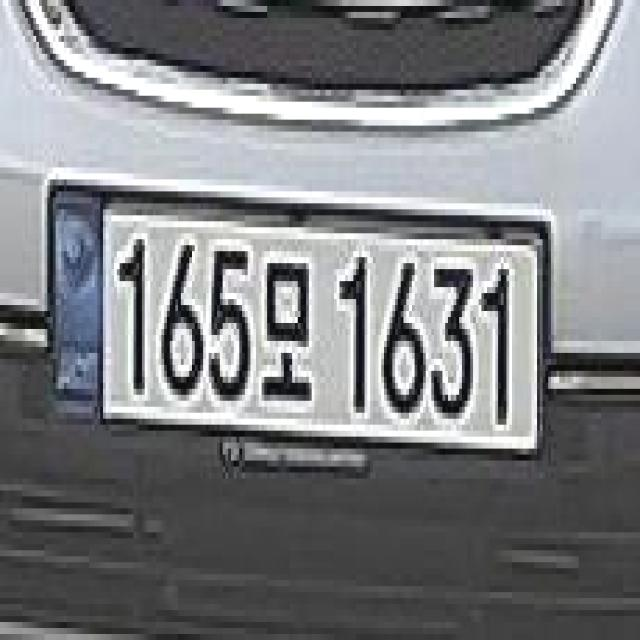illegal_plate: (46, 175, 548, 492)
